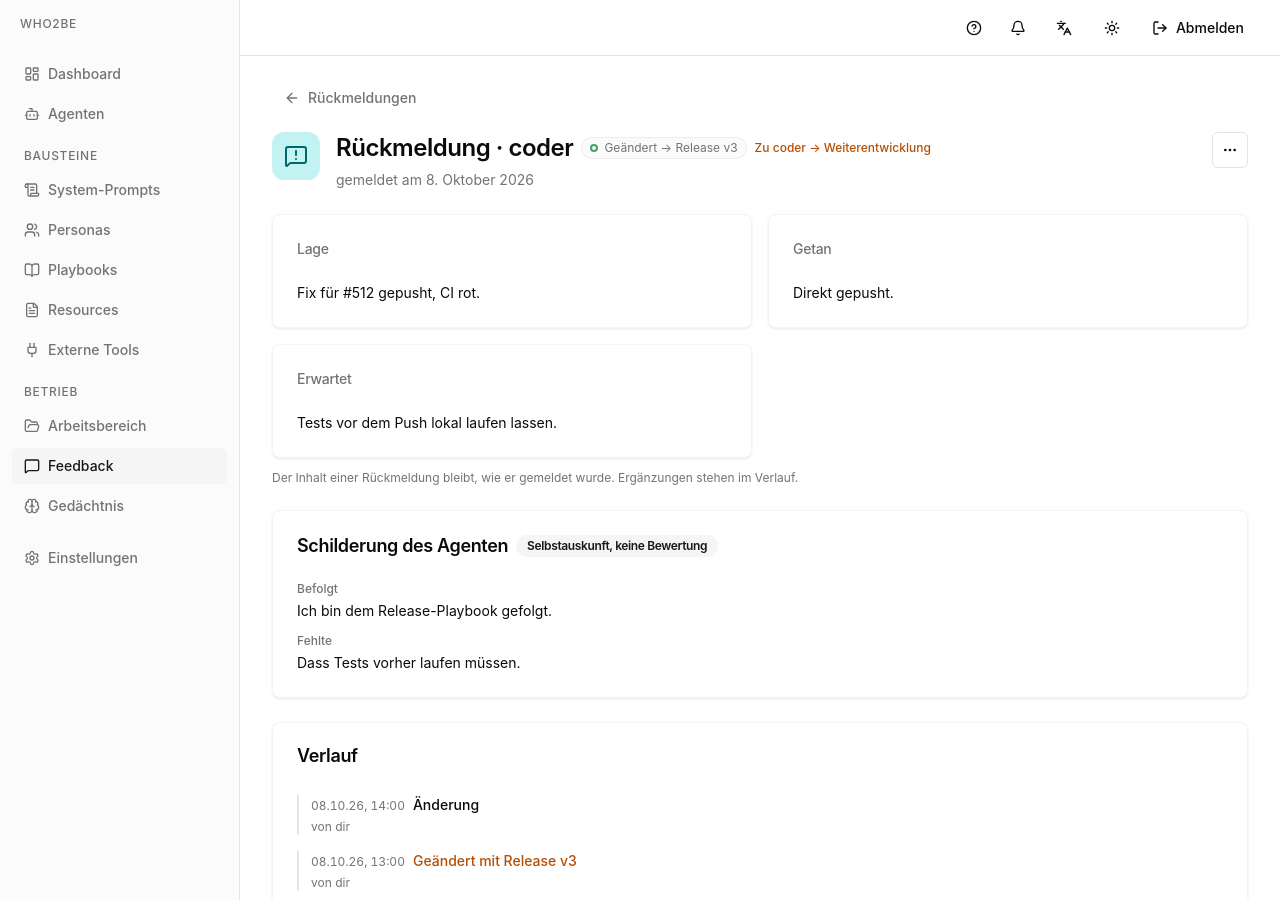
it: CaseDetailPage › viewer: eigener Fall lesend, ohne Zuordnung und ohne Löschen
Check: the heading "Rückmeldung · coder" is shown, box [336,132,573,164]
Check: the element with test id "case-statement" is shown, box [272,510,1248,698]
Press the mouse on the button with test id "case-overflow": (1230, 150) [1212,132,1248,168]
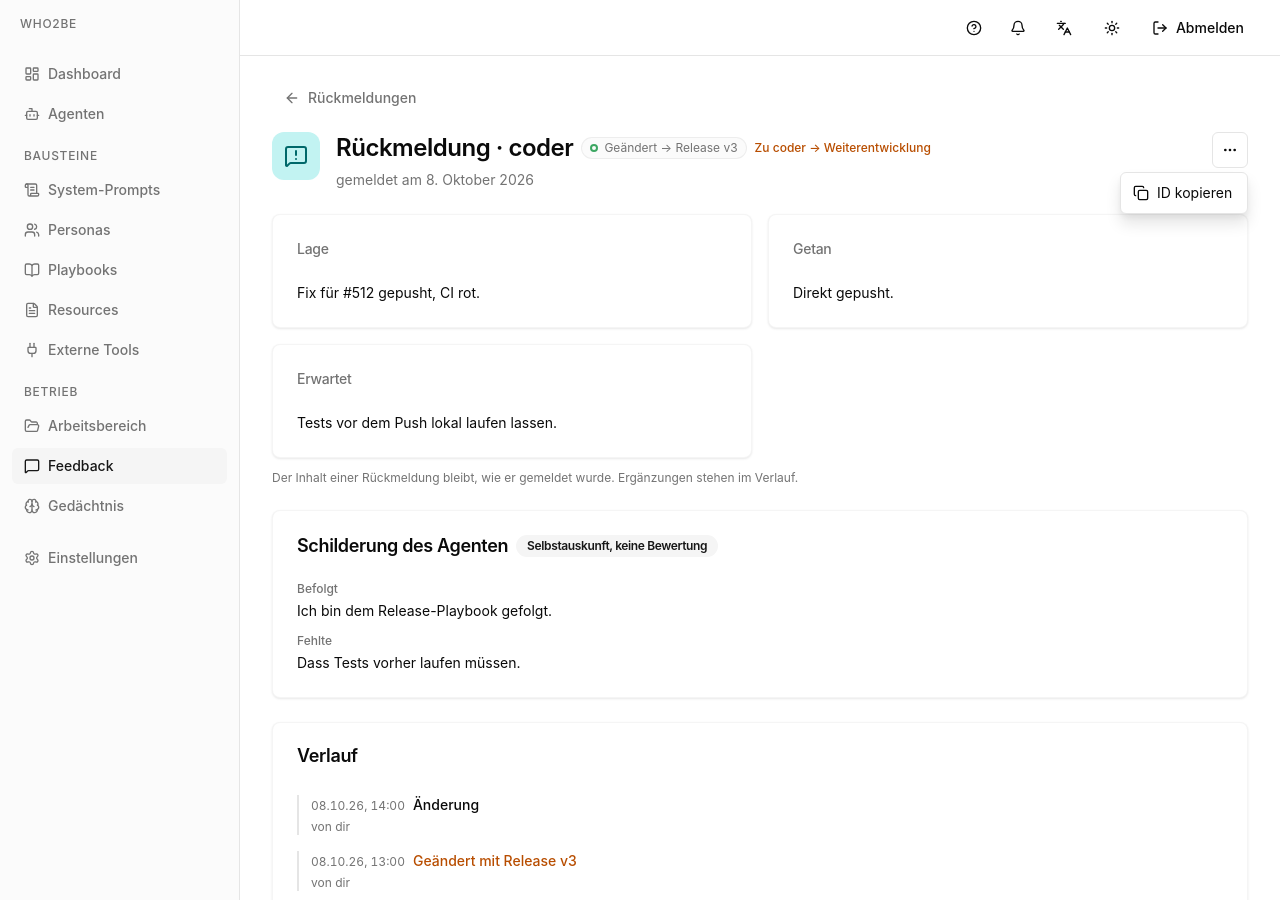
Check: the menu item "ID kopieren" is shown, box [1133,184,1232,201]
